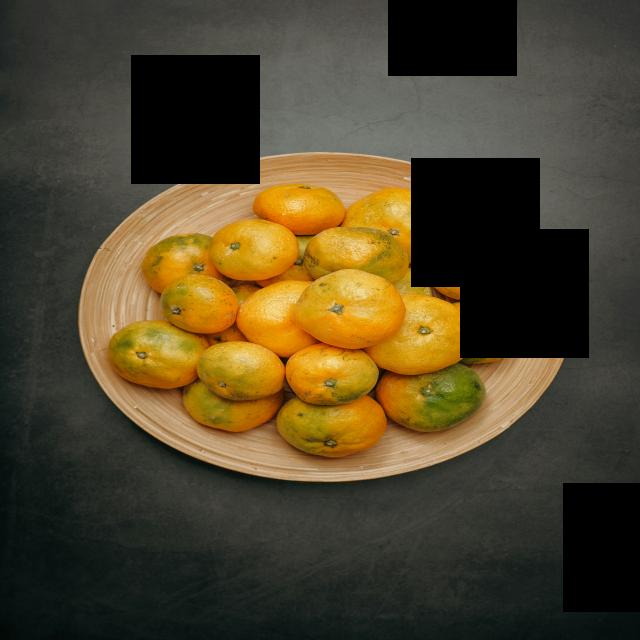tangerine: (359, 294, 474, 375), (295, 270, 404, 352), (340, 188, 454, 264), (377, 362, 486, 431), (107, 321, 211, 390), (277, 395, 387, 458), (237, 280, 323, 358), (303, 226, 409, 285), (285, 343, 379, 405), (207, 219, 298, 281), (182, 378, 284, 432), (425, 242, 518, 301), (142, 233, 232, 293), (196, 341, 286, 401), (253, 184, 345, 235), (160, 274, 238, 334), (452, 301, 521, 364)
